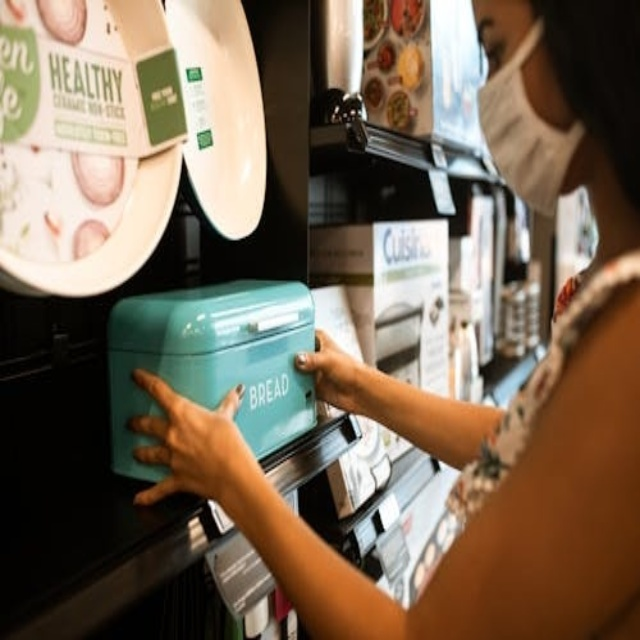Mascara: (475, 13, 590, 219)
Sin_gafas: (480, 29, 516, 79)
Sin_guantes: (126, 369, 249, 506), (290, 333, 371, 421)
